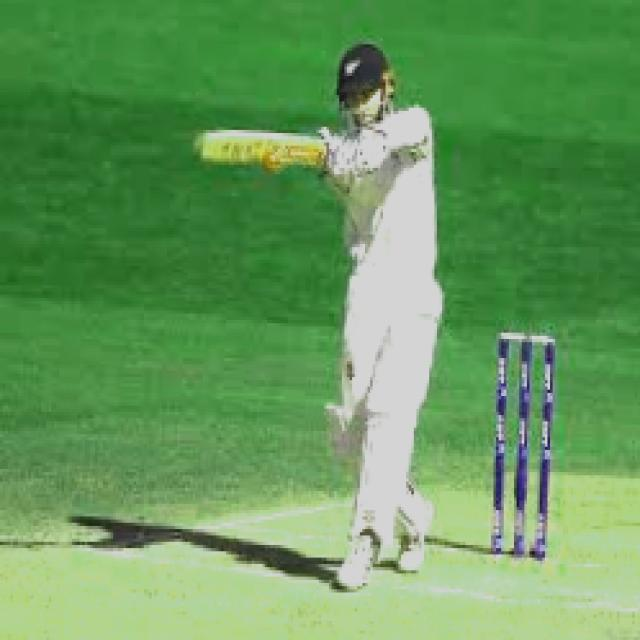toe: (193, 127, 216, 167)
